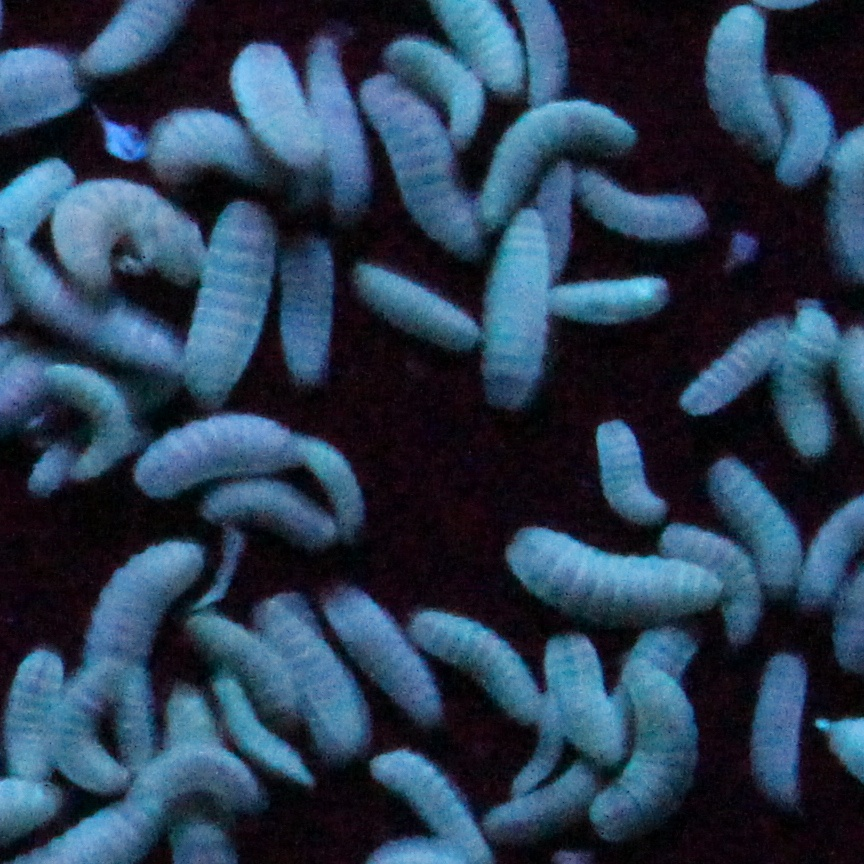larve: (354, 72, 481, 249), (473, 102, 636, 226), (502, 526, 721, 617), (592, 664, 698, 835), (321, 590, 448, 728), (85, 537, 205, 672), (192, 204, 273, 402), (473, 207, 552, 409), (133, 414, 312, 500), (52, 176, 196, 276), (411, 612, 543, 721), (707, 4, 783, 157), (233, 43, 321, 172), (348, 264, 483, 348), (709, 460, 793, 591), (678, 316, 790, 414), (193, 614, 300, 714), (540, 638, 621, 767), (54, 360, 141, 480), (774, 304, 840, 459), (56, 664, 139, 787), (748, 645, 805, 812), (578, 172, 709, 240), (198, 486, 333, 542), (283, 233, 333, 376), (595, 424, 669, 519), (771, 72, 833, 185), (7, 640, 58, 775), (550, 274, 671, 322)
